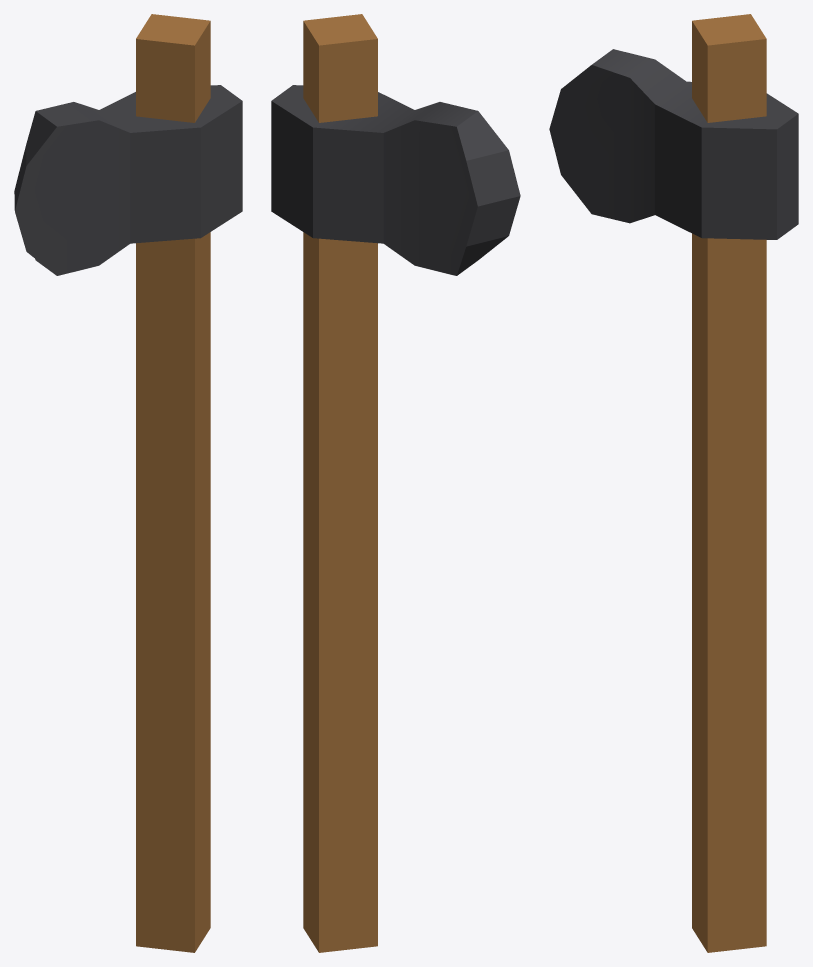
Rendered from goblin_mace.fbx.
3 renders of one model, left to right at view 1: azimuth 30°, elevation 25°; view 2: azimuth 150°, elevation 25°; view 3: azimuth 330°, elevation 25°, orthographic.
Parts seen in each view (by area): view 1: goblin_mace; view 2: goblin_mace; view 3: goblin_mace.
Part boxes in pixels (x1=…): goblin_mace: x1=14, y1=14, x2=242, y2=952; goblin_mace: x1=271, y1=14, x2=520, y2=952; goblin_mace: x1=549, y1=14, x2=798, y2=952.
Size of the model in its own units: 26.92 by 103 by 11.34.
